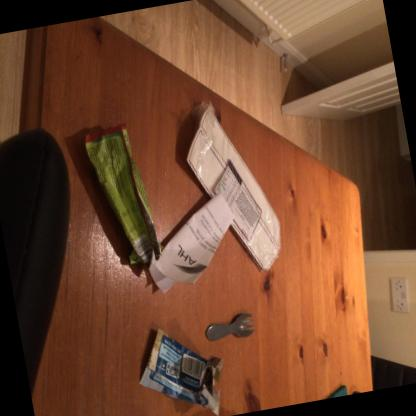Paper: (148, 193, 233, 293)
Plastic: (192, 100, 279, 272), (84, 123, 160, 276), (138, 328, 222, 416), (204, 313, 254, 340)
